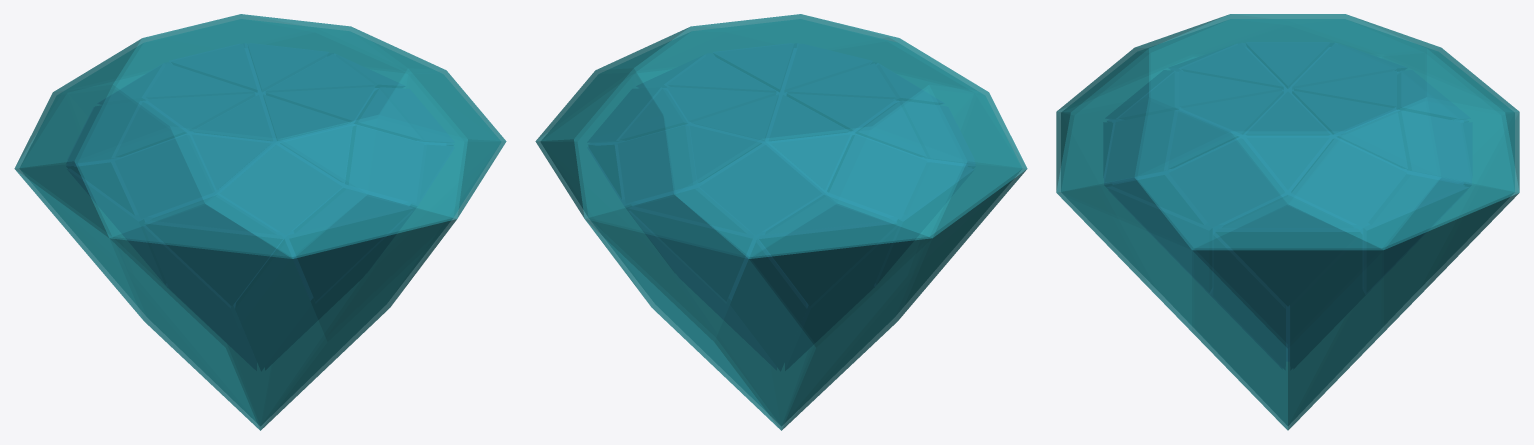
File: netObjex_diamond_002.glb
3 views of the same model, side by side, from view 1: azimuth 30°, elevation 25°; view 2: azimuth 150°, elevation 25°; view 3: azimuth 270°, elevation 25° (orthographic).
Parts seen in each view (by area): view 1: Gem.001, Gem.002; view 2: Gem.001, Gem.002; view 3: Gem.001, Gem.002.
Part boxes in pixels (<box>): Gem.001: <box>14,14,506,430</box>; Gem.002: <box>67,43,453,370</box>; Gem.001: <box>535,14,1027,430</box>; Gem.002: <box>588,43,974,370</box>; Gem.001: <box>1056,14,1519,430</box>; Gem.002: <box>1104,42,1471,368</box>.
Size of the model in its own units: 1.85 by 1.58 by 1.85.
